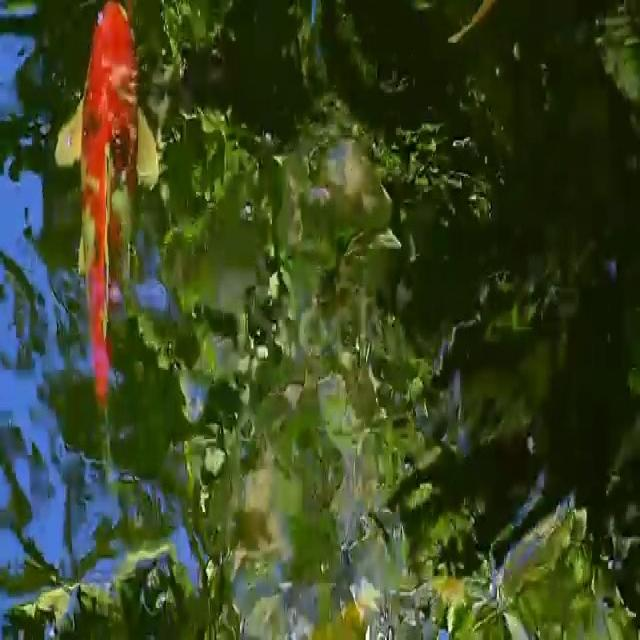fish: (51, 0, 162, 462)
